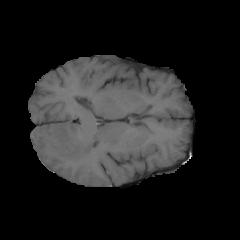glioma: (56, 134, 95, 161)
